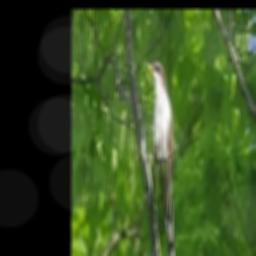Cuckoo: (149, 62, 177, 256)
